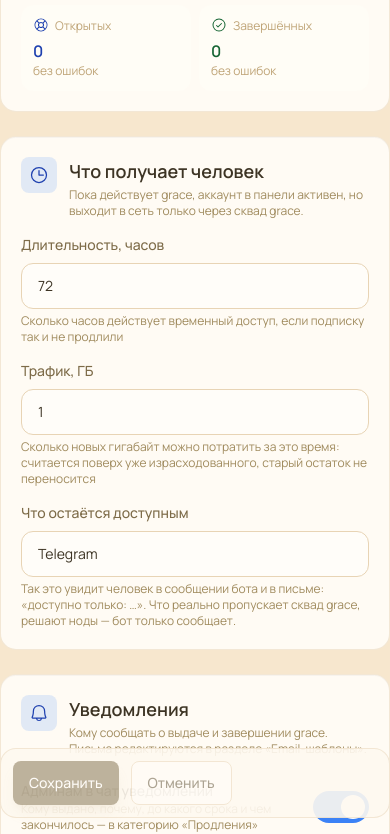
it: раздел grace-доступа › не даёт включить режим с трафиком меньше гигабайта
(page scrolled)
Replace the text in the number field labelled "Трафик, ГБ" with "0" at x=195, y=412, box 21,389 -> 369,435
(page scrolled)
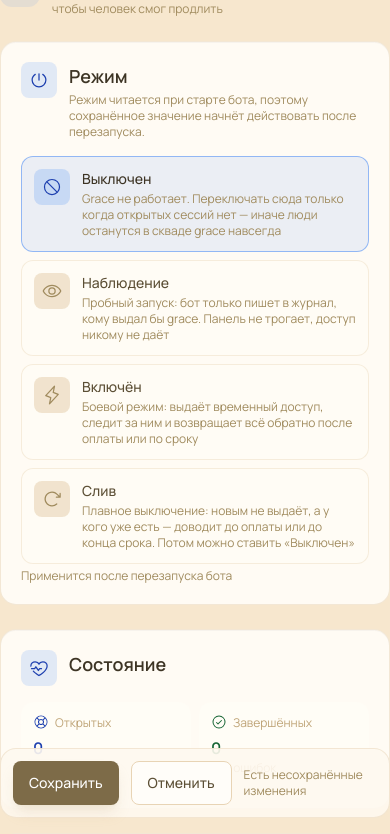
Click the button "Включён" at x=195, y=412, box 21,364 -> 369,460
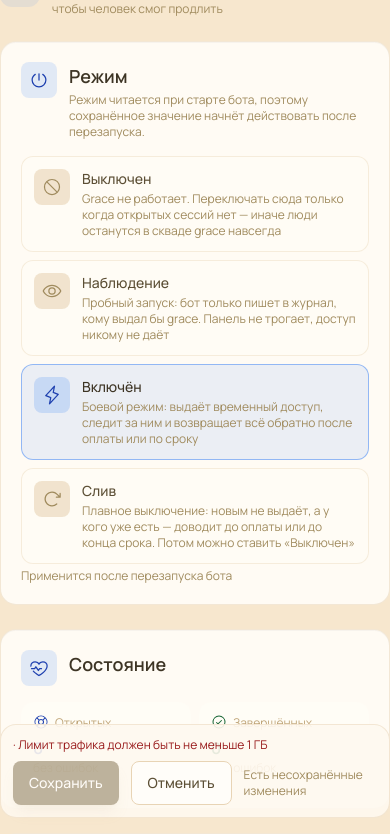
Result: the button "Сохранить" is disabled at 13,761 -> 119,805
